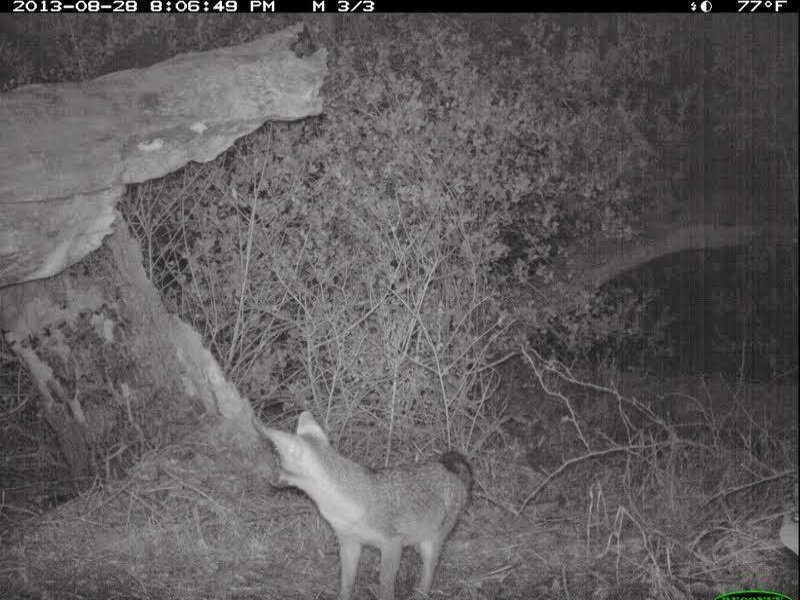fox: (248, 409, 477, 600)
